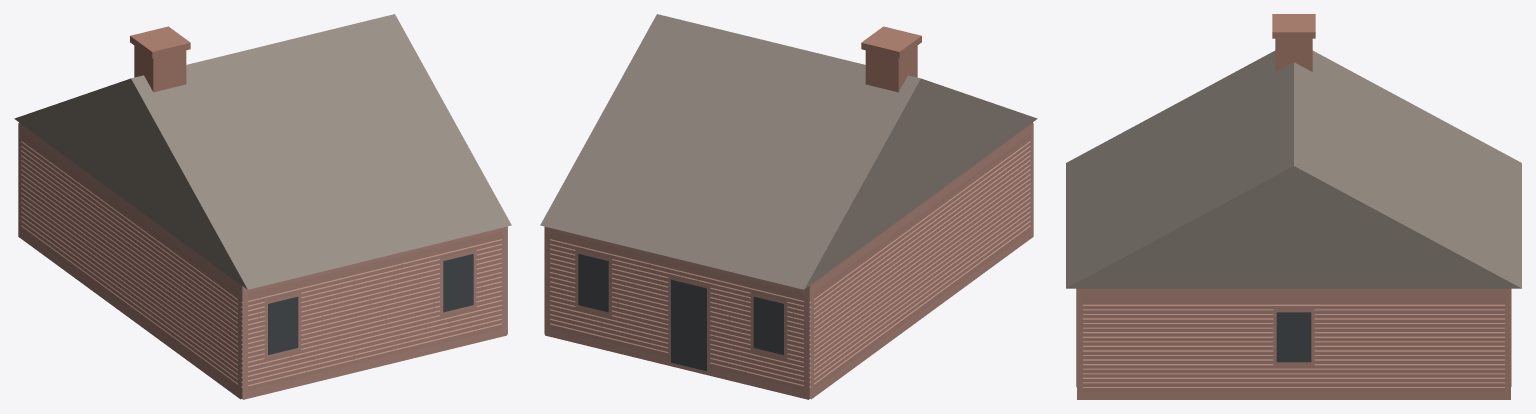
File: recon_1835_north_d5_041__inferred_1835.glb
3 views of the same model, side by side, from view 1: azimuth 30°, elevation 25°; view 2: azimuth 150°, elevation 25°; view 3: azimuth 270°, elevation 25° (orthographic). The views are drawn at different scales.
Visible parts, largest first — view 1: recon_1835_north_d5_041__inferred_1835; view 2: recon_1835_north_d5_041__inferred_1835; view 3: recon_1835_north_d5_041__inferred_1835.
Part boxes in pixels (x1,y1,x2,y2): recon_1835_north_d5_041__inferred_1835: (14,14,511,399); recon_1835_north_d5_041__inferred_1835: (540,14,1037,399); recon_1835_north_d5_041__inferred_1835: (1066,14,1521,399).
Bounding box in the file's own units: 6.81 × 6.62 × 10.33.
